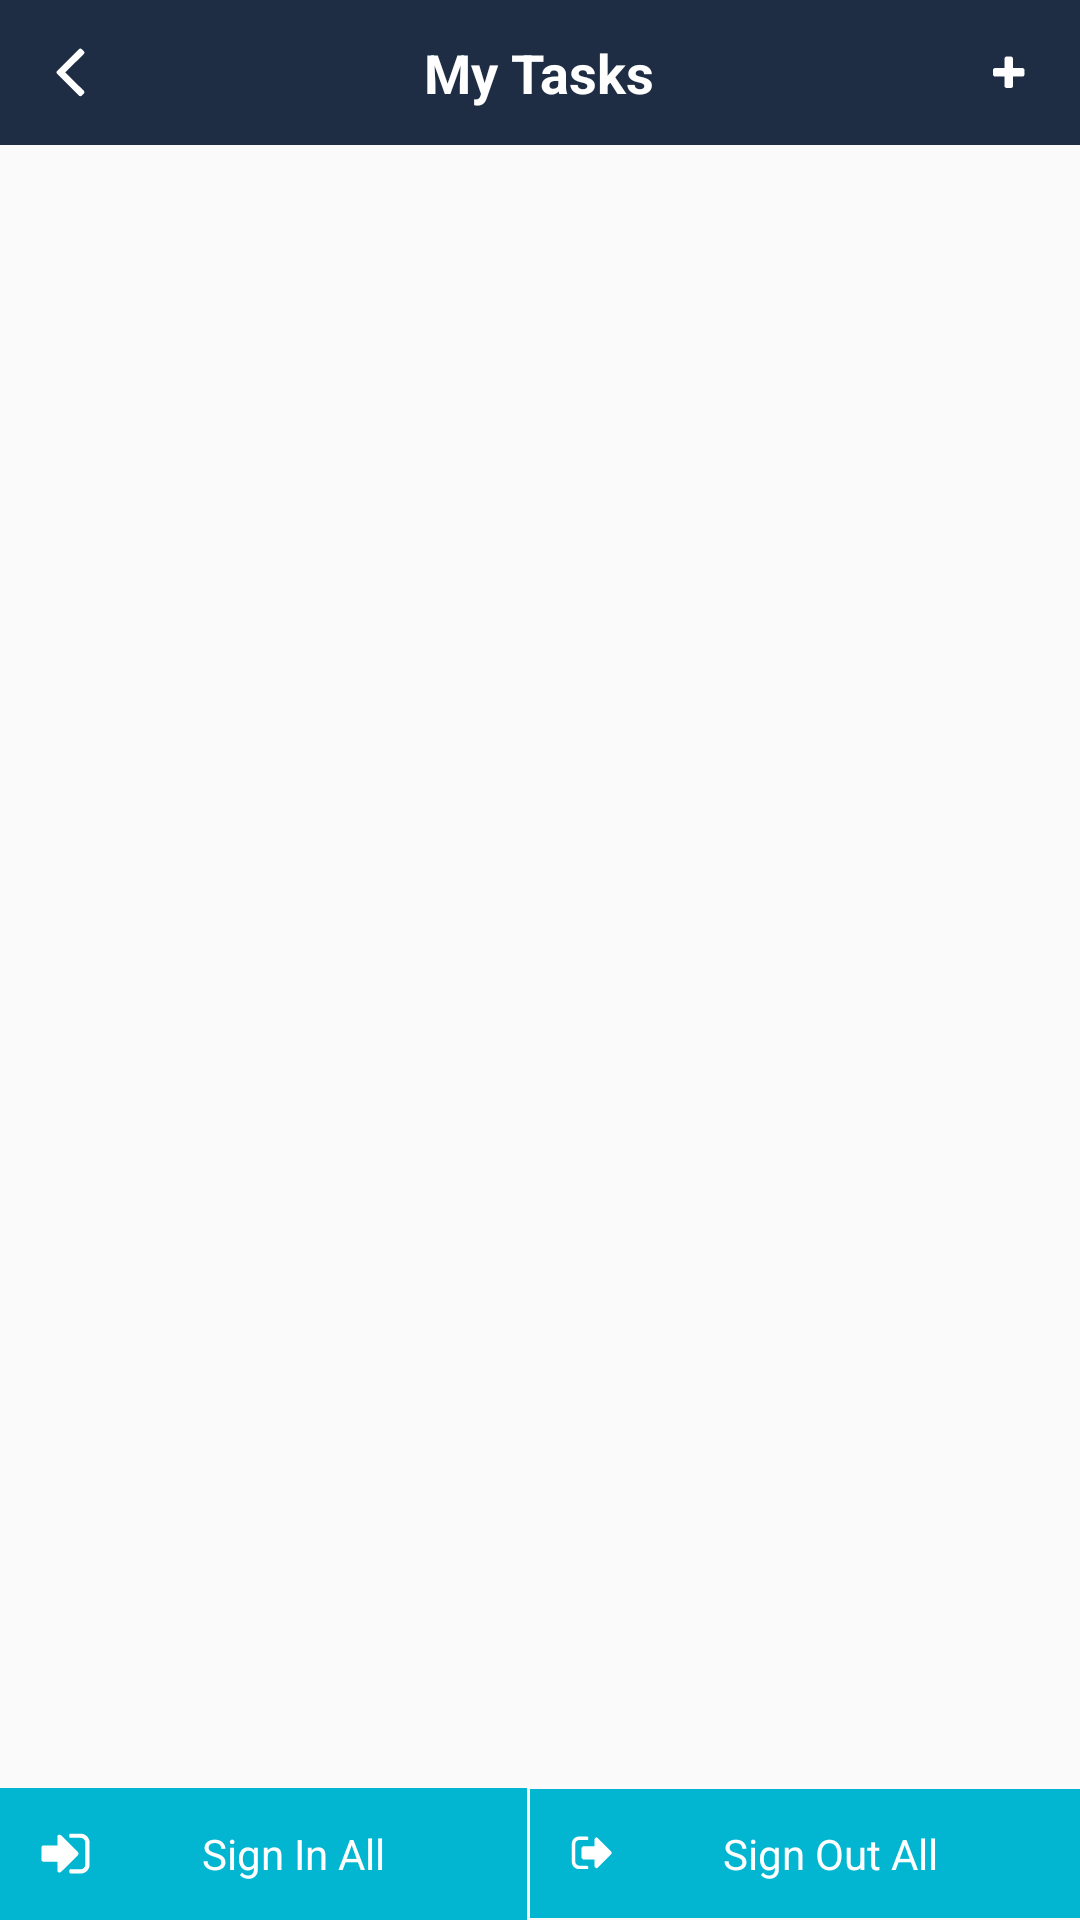

Screen size 1080×1920. Icon name, then its box in pixels as (x1, y1, x2, y2):
add: (993, 56, 1025, 88)
